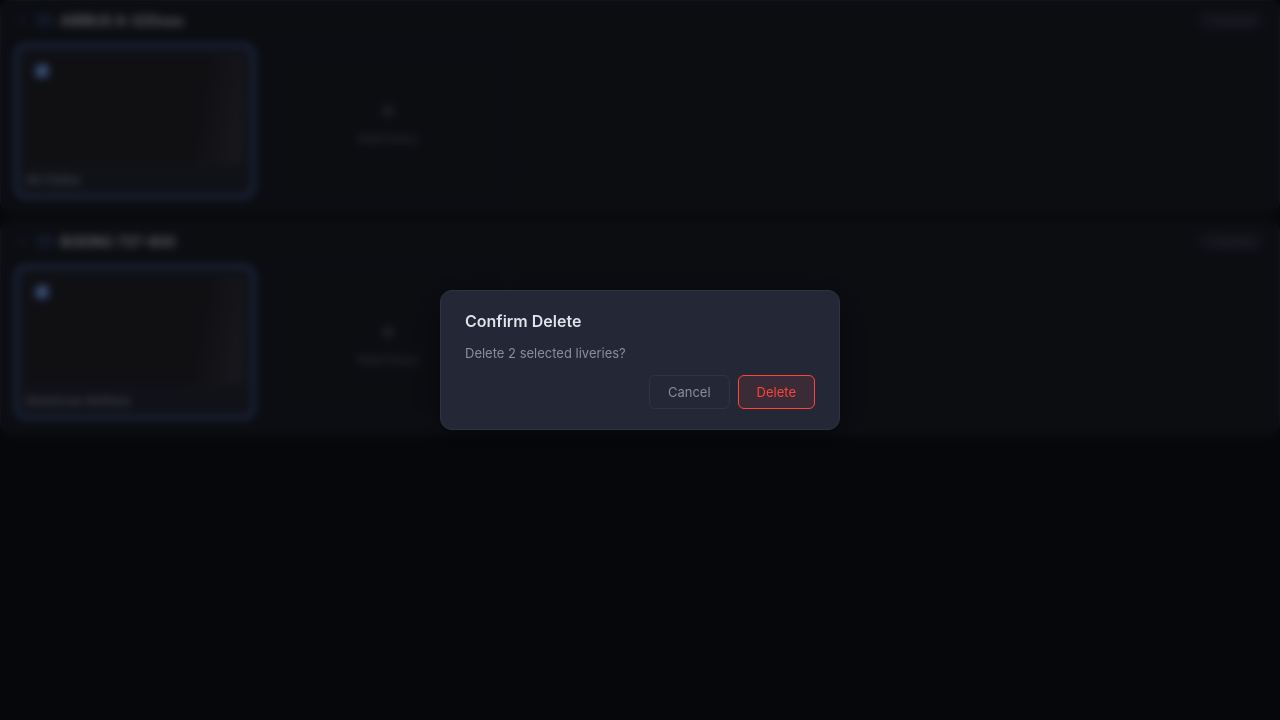
it: MyLiveriesTab error + edge paths › batch delete reports partial success
The width and height of the screenshot is (1280, 720).
Check: the number of checkboxes with class "livery-select" is 2, box x1=35 y1=64 x2=49 y2=78; x1=35 y1=285 x2=49 y2=299
Check: the heading "Confirm Delete" is shown, box x1=465 y1=311 x2=581 y2=331
Click the button "Delete" at (776, 392), box x1=738 y1=375 x2=815 y2=409
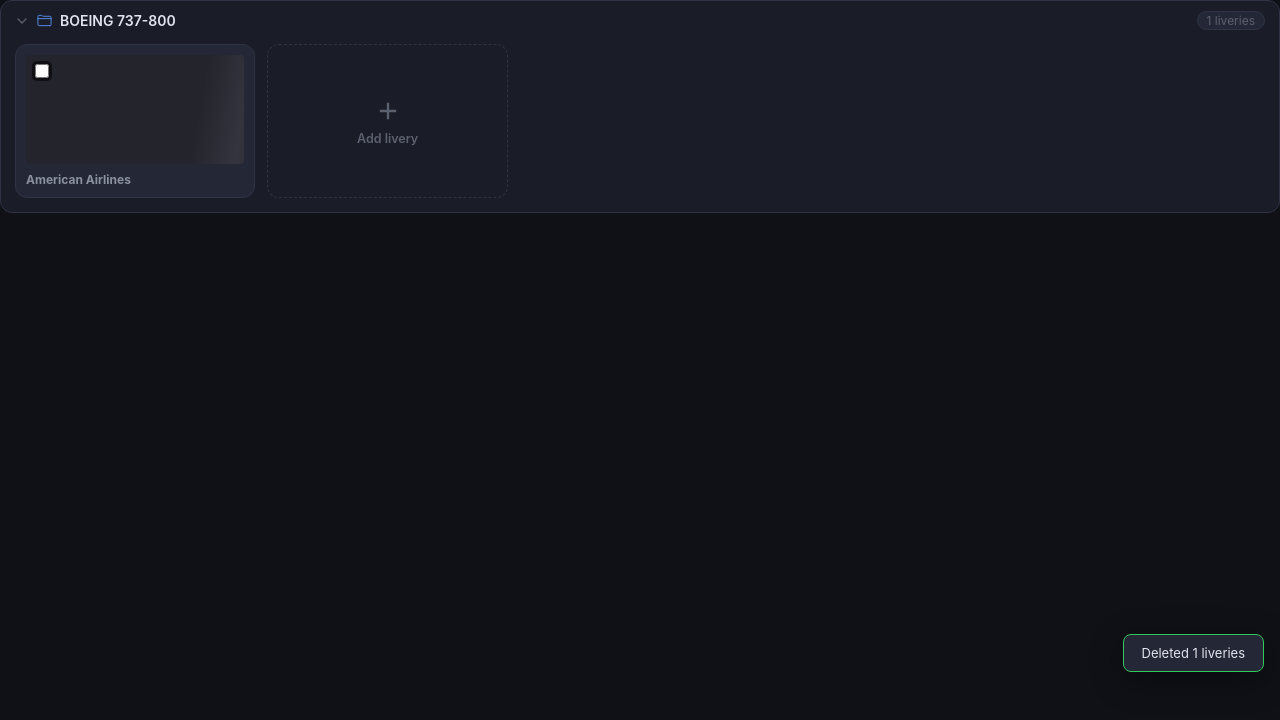
Check: the text "American Airlines" is shown, box x1=26 y1=172 x2=131 y2=187
Check: the text "Deleted 1 liveries" is shown, box x1=1122 y1=634 x2=1264 y2=672
Check: the text "Air China" is gone
